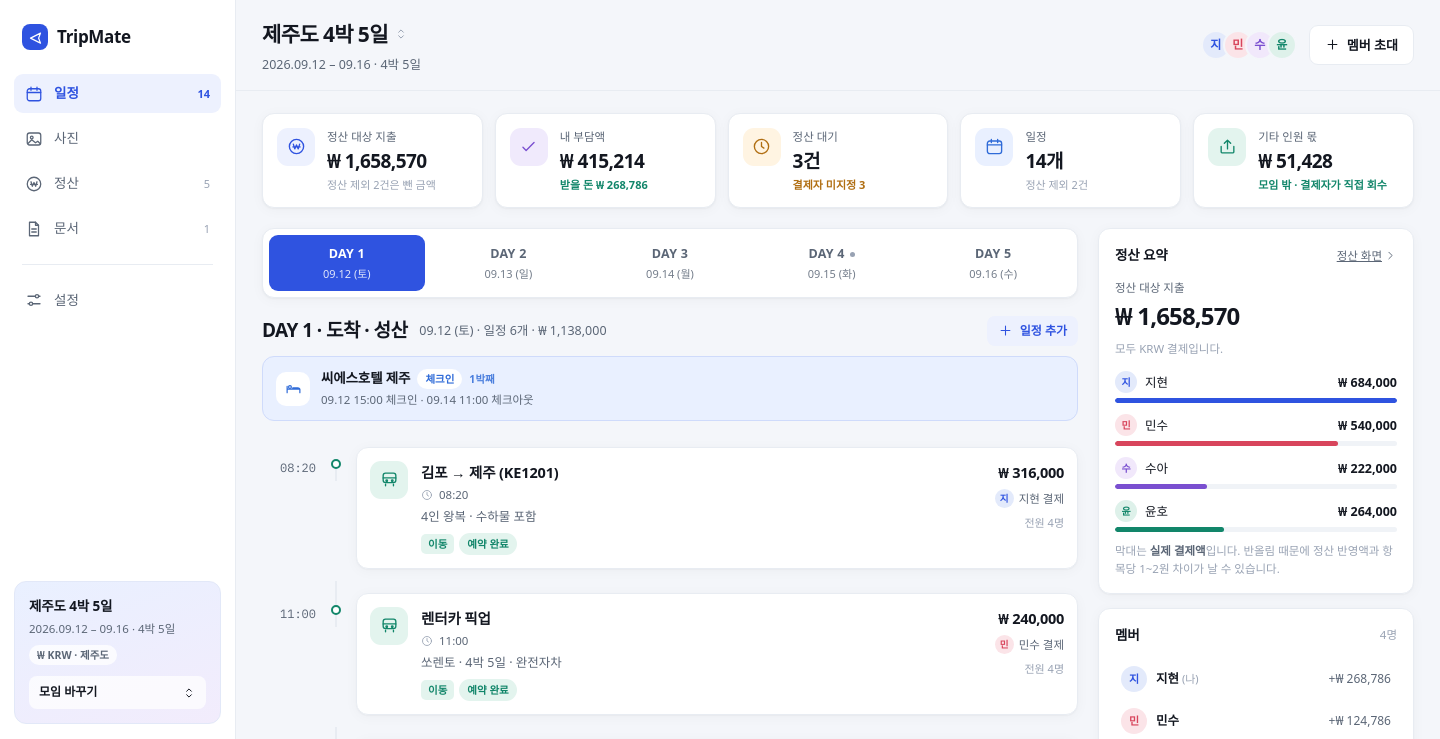
Scenario: 일정 화면 › 비어 있는 날은 탭에 점을 찍고 빈 날 안내를 보여 준다
Click the button with class "daytab" showing "DAY 4 09.15 (화)".
click(832, 263)  # box [754,235,909,291]
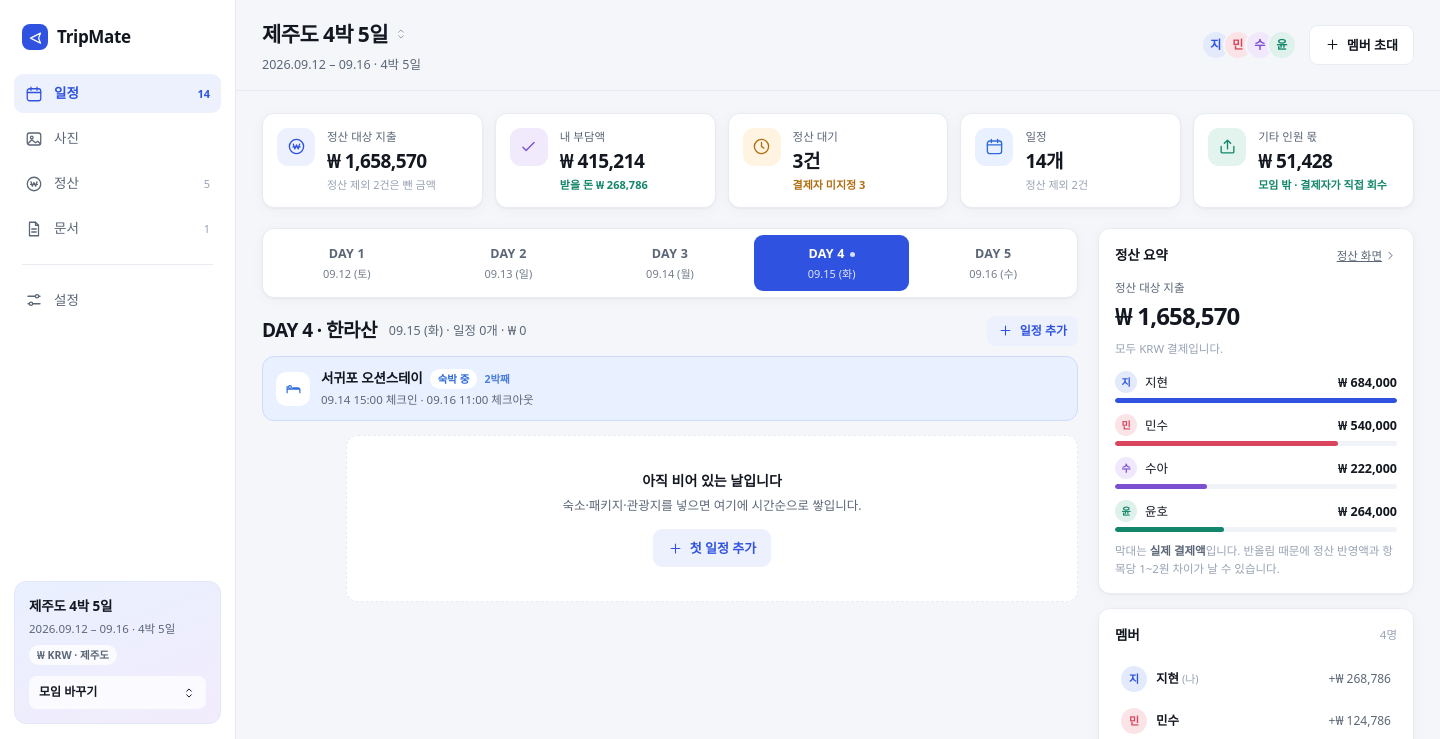
Expected: the text "아직 비어 있는 날입니다" is shown, [642,471,782,490]
